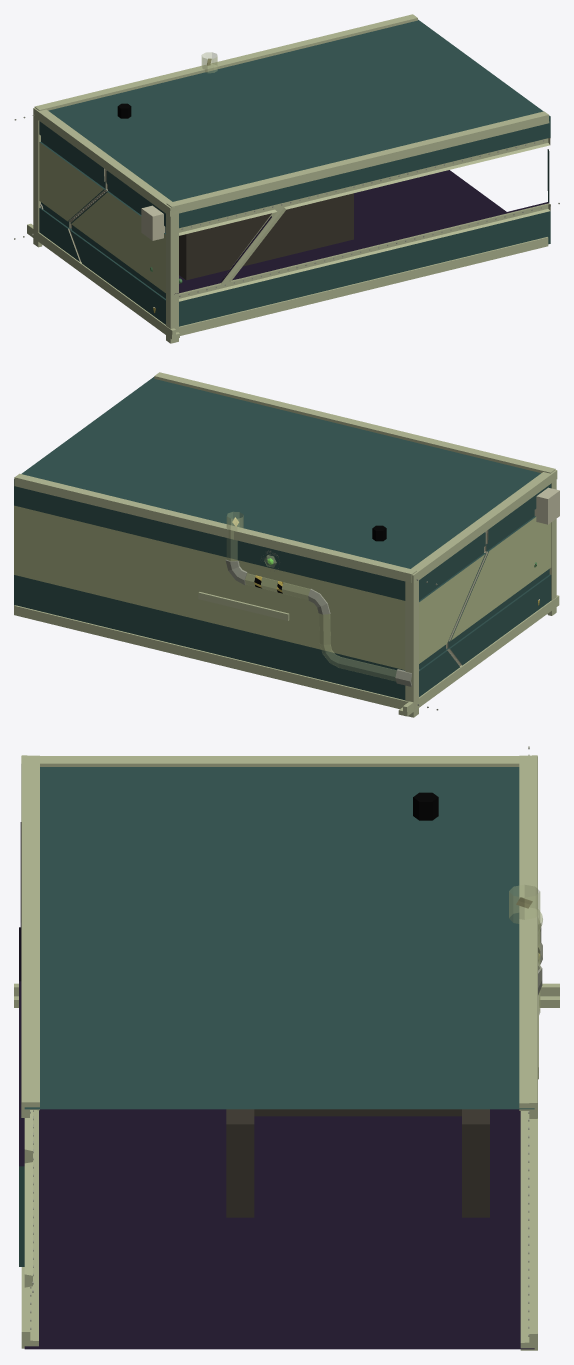
File: room2.glb
The picture shows the model from 3 angles, top to bottom: view 1: azimuth 30°, elevation 25°; view 2: azimuth 150°, elevation 25°; view 3: azimuth 270°, elevation 25°; orthographic projection. The views are drawn at different scales.
Parts seen in each view (by area): view 1: Cube, Cube.005, Cube.008, Cube.006, Cube.012, Cube.003, Cube.004, Cube.001, Cube.002, Cube.027; view 2: Cube, Cube.012, Cube.007, Cube.013, Cube.008, Cube.003, Cube.004, Cube.002, Cube.027, Cube.023, Cube.001; view 3: Cube, Cube.005, Cube.008, Cube.012, Cube.003, Cube.007, Cube.006, Cube.013.
Part boxes in pixels (x1,y1,x2,y2): Cube: [39, 19, 550, 326]; Cube.005: [179, 193, 353, 280]; Cube.008: [166, 111, 549, 214]; Cube.006: [179, 237, 548, 335]; Cube.012: [34, 14, 417, 110]; Cube.003: [33, 107, 178, 216]; Cube.004: [27, 223, 179, 339]; Cube.001: [166, 213, 178, 343]; Cube.002: [33, 108, 42, 247]; Cube.027: [141, 205, 165, 240]; Cube: [14, 377, 551, 700]; Cube.012: [14, 473, 416, 582]; Cube.007: [14, 605, 408, 709]; Cube.013: [225, 512, 419, 686]; Cube.008: [154, 372, 555, 473]; Cube.003: [410, 470, 557, 583]; Cube.004: [398, 595, 559, 716]; Cube.002: [405, 574, 418, 717]; Cube.027: [534, 487, 559, 524]; Cube.023: [198, 592, 289, 620]; Cube.001: [547, 480, 556, 615]; Cube: [19, 767, 534, 1349]; Cube.005: [226, 1109, 489, 1217]; Cube.008: [21, 755, 39, 1117]; Cube.012: [519, 755, 537, 1118]; Cube.003: [21, 756, 519, 766]; Cube.007: [520, 1111, 537, 1350]; Cube.006: [21, 1110, 38, 1348]; Cube.013: [509, 885, 542, 1014].
Bounding box in the file's own units: 13.03 × 4.62 × 7.91.
